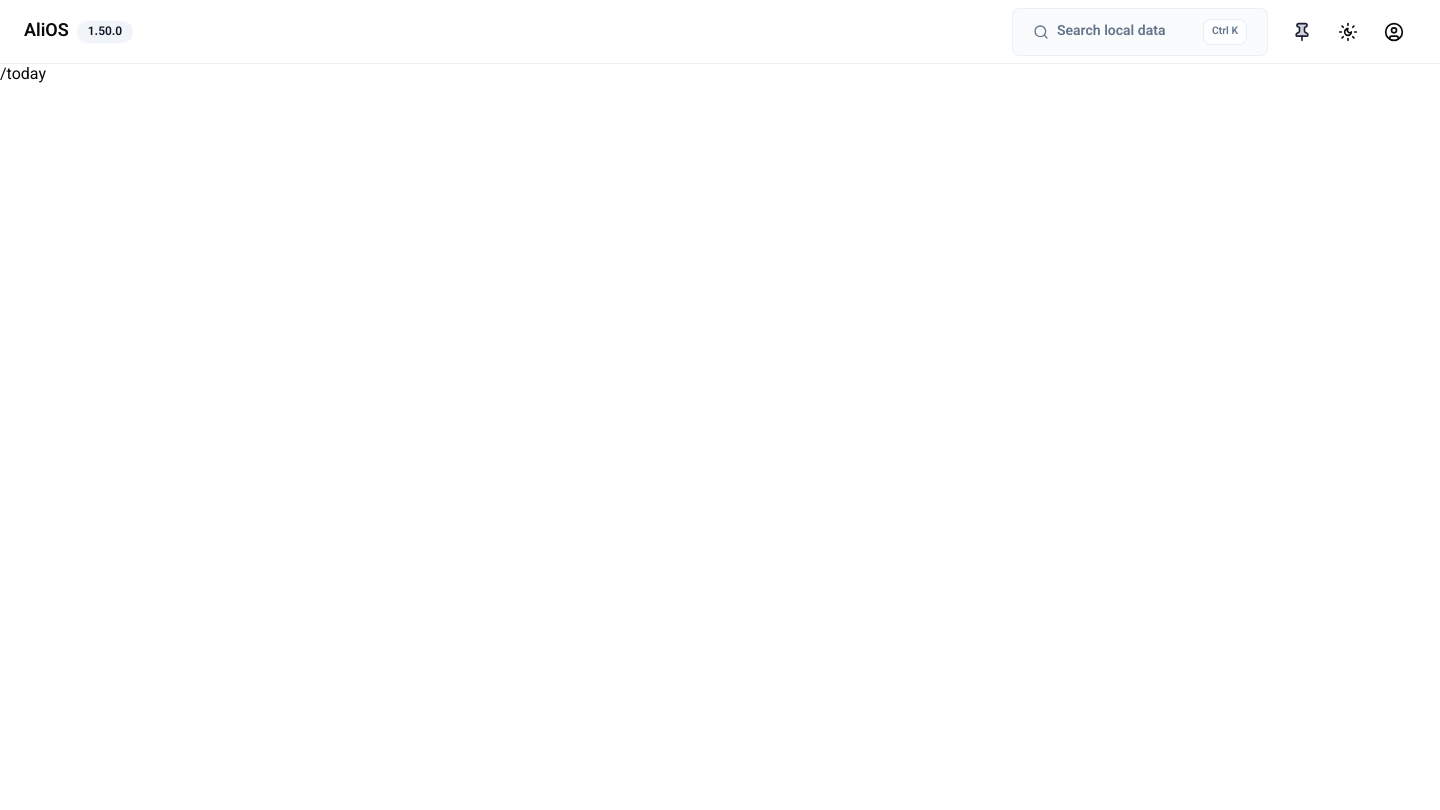
Test: global Quick Access › reads saved module shortcuts and indicates the current page
What coordinates should you click on to do the following:
click the button named "Open Quick Access"
I would click on:
 (1302, 32)
Its box is [1280,10,1324,54].
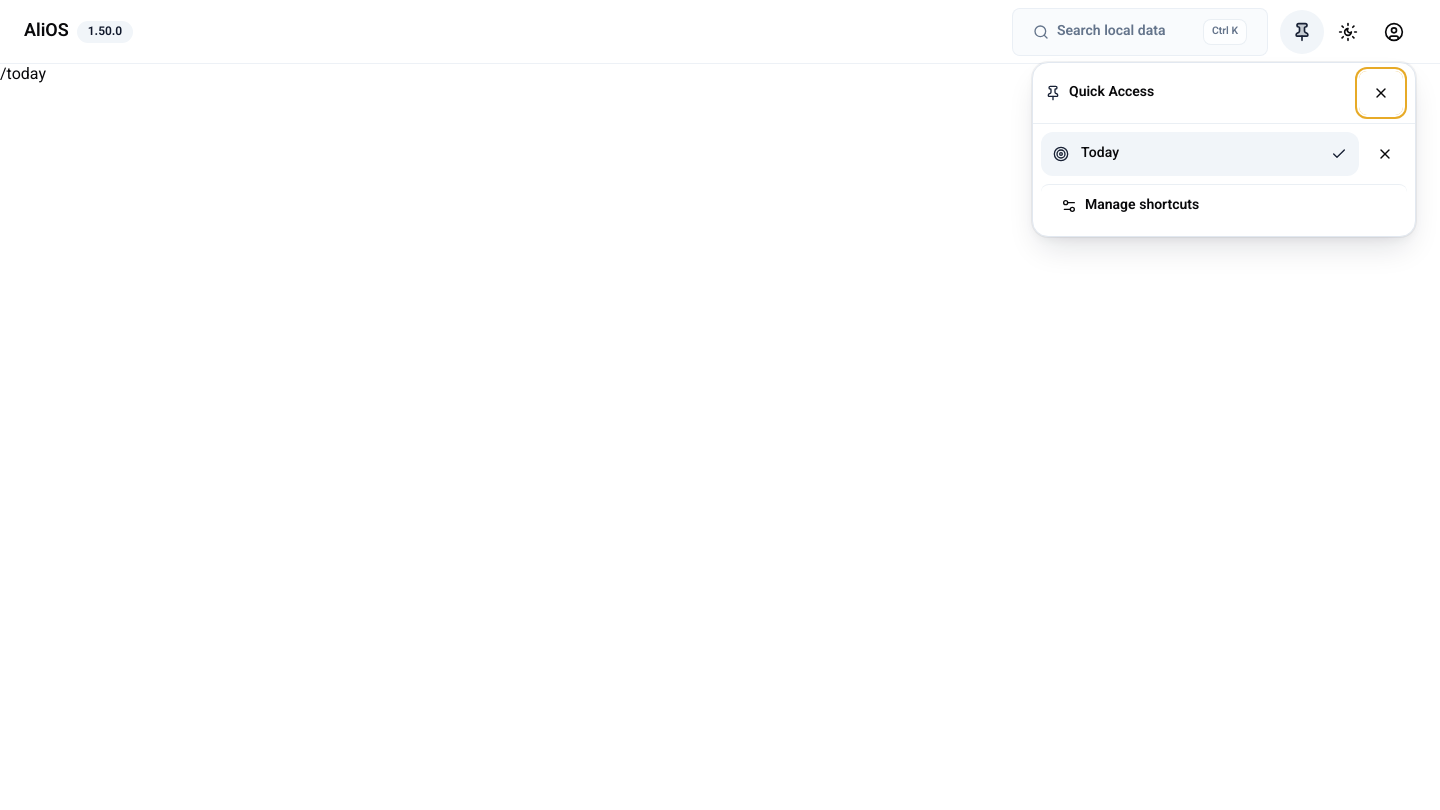
Check: the link "Today" is shown, box [1041,132,1359,176]
